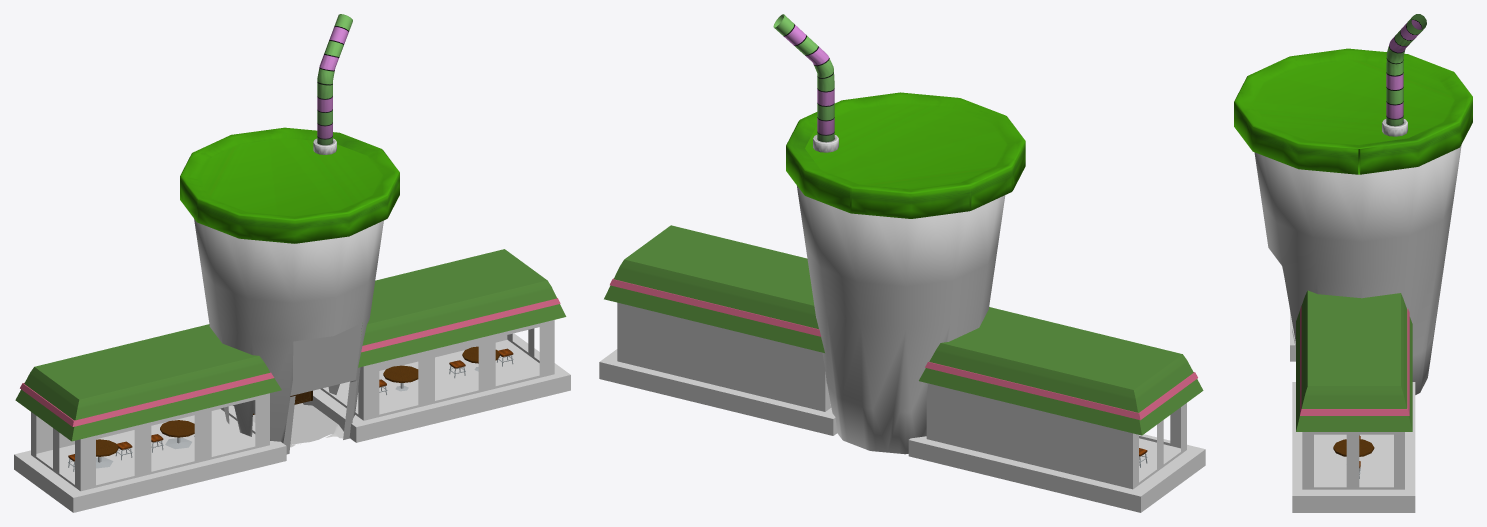
File: Mr_SmoothieCompleto.obj
3 views of the same model, side by side, from view 1: azimuth 30°, elevation 25°; view 2: azimuth 150°, elevation 25°; view 3: azimuth 270°, elevation 25° (orthographic). The views are drawn at different scales.
Visible parts, largest first — view 1: vaso001, Tapa, polySurface14, polySurface001, Box002, Box004, Box003, Box001, Plane016, Popote, polySurface17, polySurface002; view 2: vaso001, Tapa, polySurface14, polySurface001, Box003, Box001, Box002, Box004, Popote, polySurface17, polySurface002; view 3: vaso001, Tapa, polySurface001, Box004, Box001, Popote, polySurface002, Mesa005, popote_2.
Boxes of the visible parts, x1,y1,x2,y2 form: vaso001: (194, 219, 383, 447); Tapa: (180, 127, 399, 243); polySurface14: (15, 324, 281, 441); polySurface001: (358, 249, 566, 367); Box002: (14, 406, 286, 512); Box004: (303, 333, 570, 442); Box003: (31, 393, 269, 491); Box001: (320, 320, 554, 420); Plane016: (290, 321, 362, 395); Popote: (317, 14, 352, 145); polySurface17: (20, 372, 274, 426); polySurface002: (361, 298, 560, 352); vaso001: (797, 186, 1005, 454); Tapa: (786, 92, 1025, 218); polySurface14: (919, 307, 1203, 435); polySurface001: (604, 225, 824, 352); Box003: (926, 383, 1186, 489); Box001: (617, 302, 831, 411); Box002: (908, 434, 1205, 512); Box004: (599, 349, 837, 435); Popote: (773, 14, 834, 142); polySurface17: (925, 362, 1197, 420); polySurface002: (610, 278, 821, 336); vaso001: (1254, 145, 1461, 394); Tapa: (1234, 48, 1472, 174); polySurface001: (1296, 290, 1412, 431); Box004: (1292, 382, 1415, 512); Box001: (1302, 432, 1404, 489); Popote: (1386, 14, 1426, 126); polySurface002: (1300, 306, 1409, 415); Mesa005: (1333, 439, 1374, 456); popote_2: (1382, 119, 1407, 136).
Bounding box in the file's own units: 80.95 × 58.44 × 30.91.
